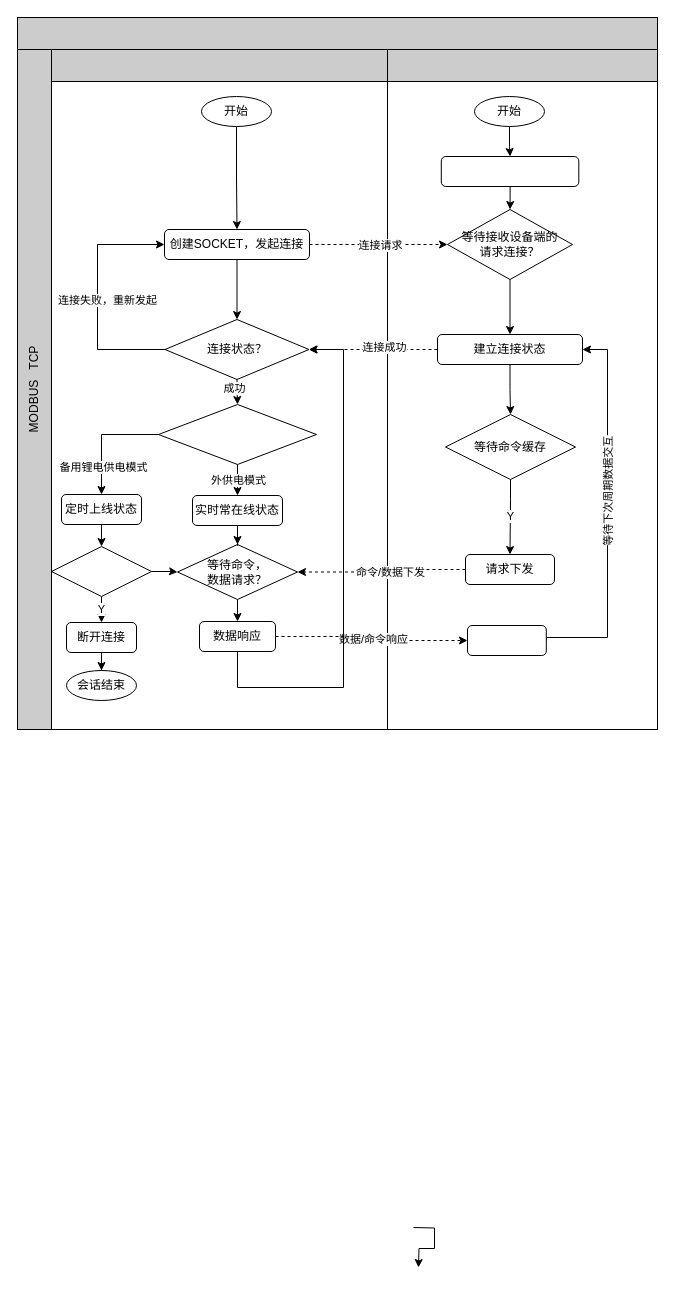
Image size: 675x1293. Some labels were removed from this diagram. Here are the shapes that lost their labels. From the top down, the centre of each, then its label:
At (x=337, y=33): "MODBUS TCP 会话流程".
At (x=219, y=65): "设备端（客户端-从机）".
At (x=522, y=65): "平台（服务端-主机）".
At (x=509, y=171): "启动TCP服务器， 502端口监听状态".
At (x=237, y=434): "供电模式？".
At (x=101, y=571): "连接超时？".
At (x=506, y=640): "响应成功".
